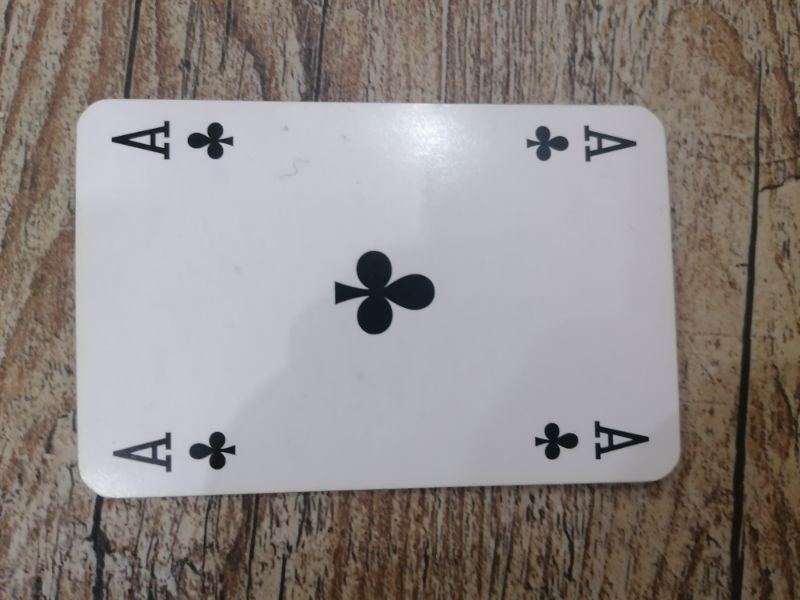Ac: (106, 116, 240, 169), (109, 427, 243, 480), (528, 414, 654, 467), (520, 118, 643, 169)
